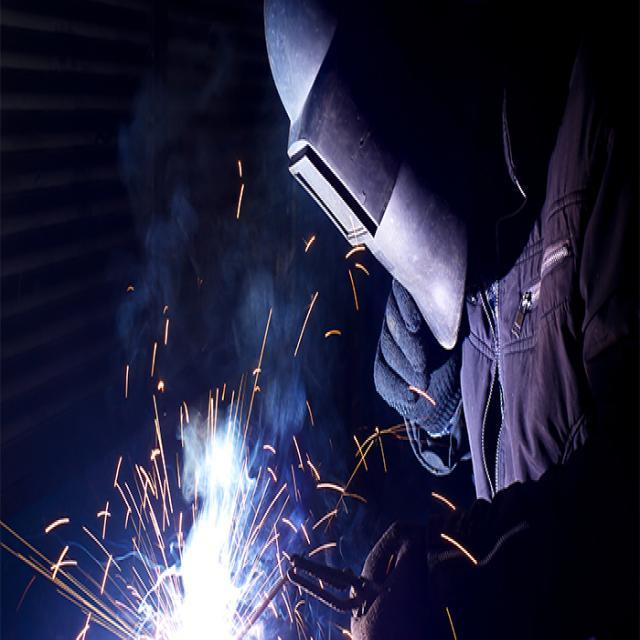with_helmet: (264, 0, 489, 349)
